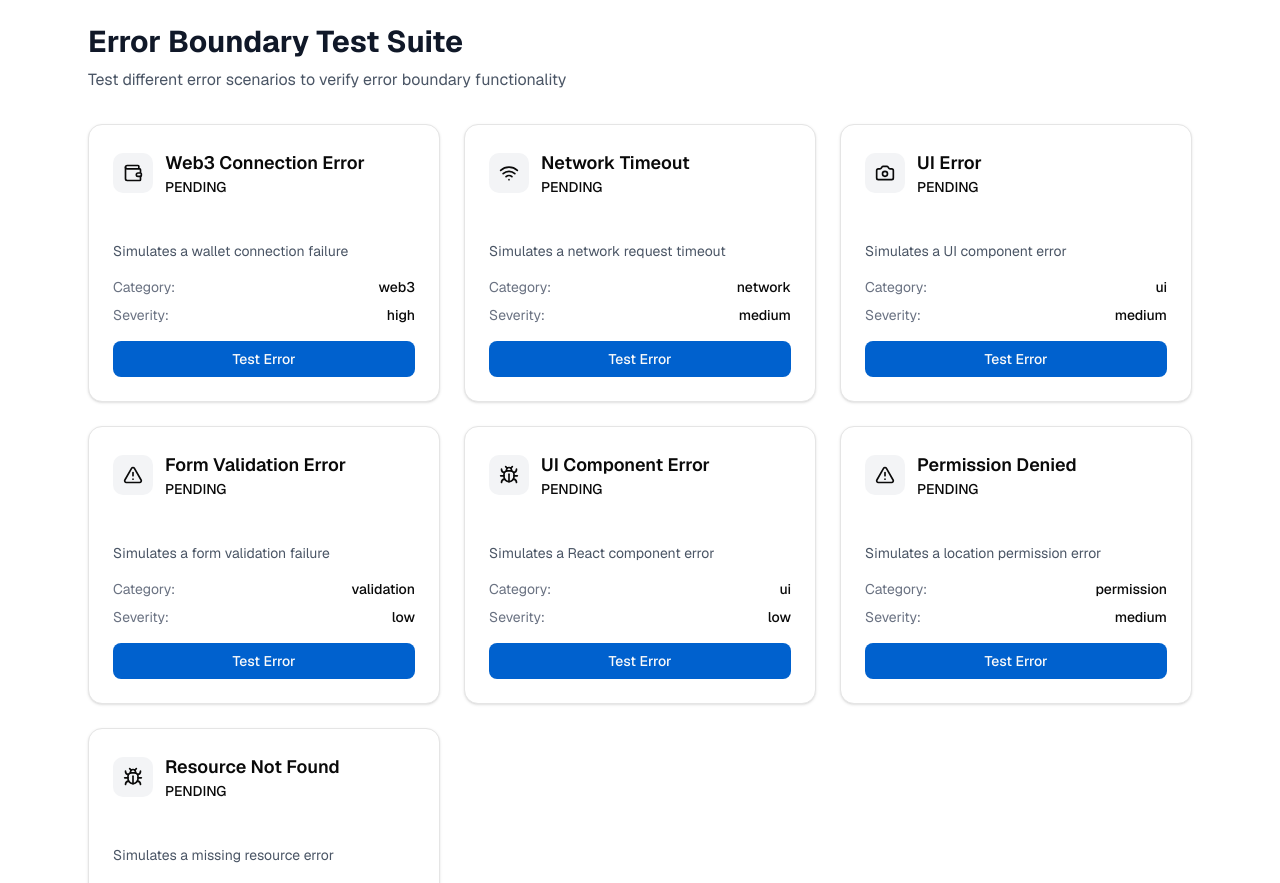
ErrorTestSuite › shows and clears the summary panel after a test run
Click the button "Test Error" below "high".
click(264, 359)  # box x1=113 y1=341 x2=415 y2=377
Wait 2000 ms
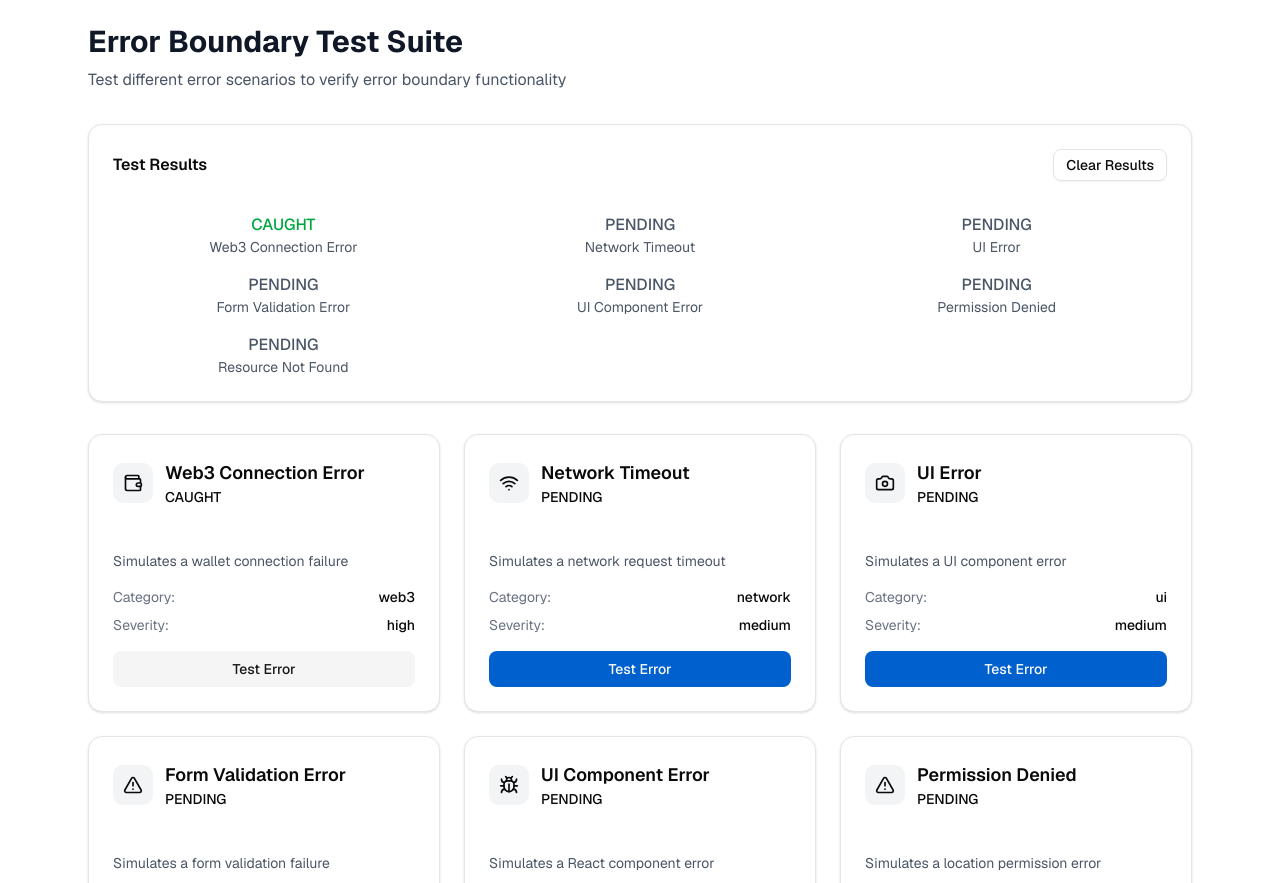
expect the text "CAUGHT" below "Test Results" is shown: met, box x1=251 y1=214 x2=315 y2=235
expect the text "Test Results Clear Results" is shown: met, box x1=113 y1=149 x2=1167 y2=181
Click the button "Clear Results".
click(1110, 165)  # box x1=1053 y1=149 x2=1167 y2=181
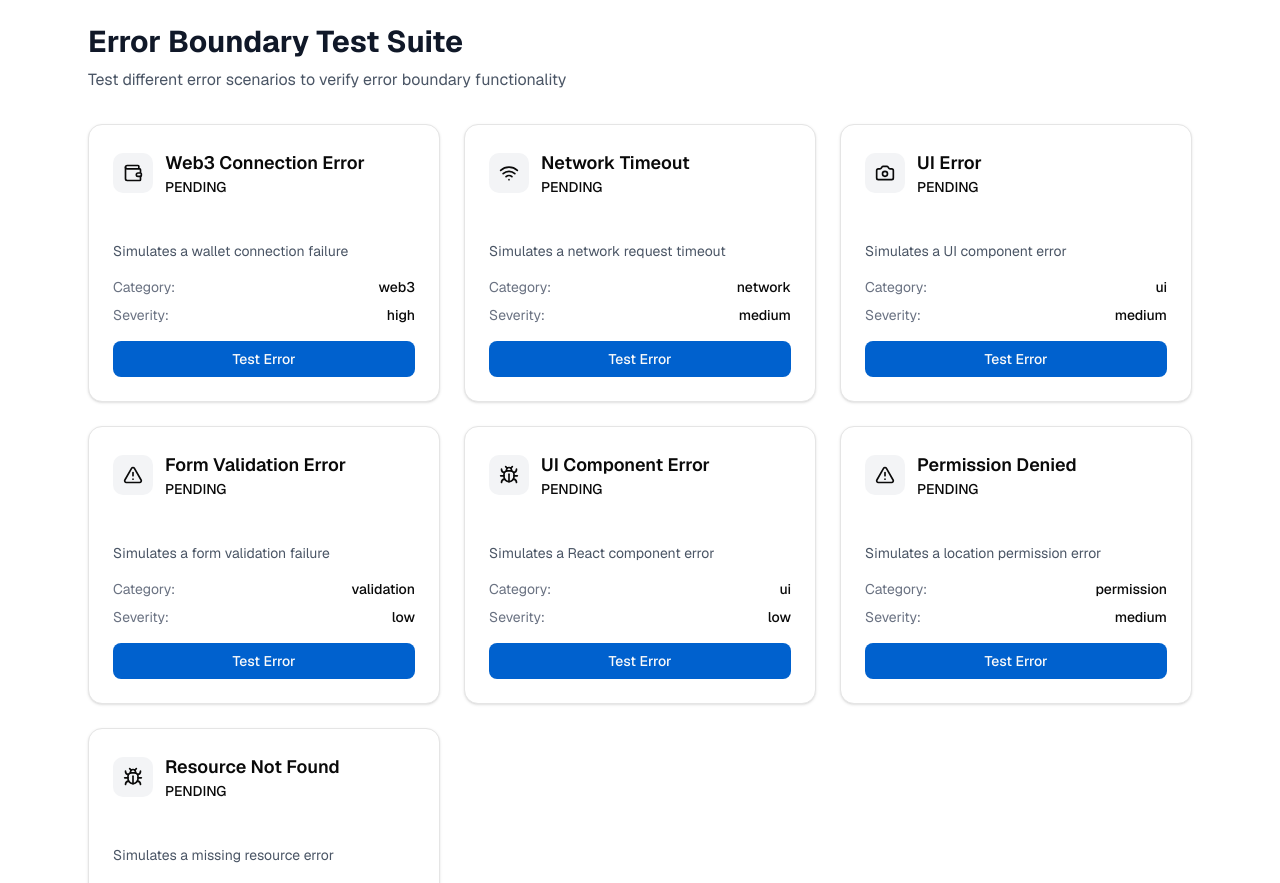
expect the text "Test Results" is gone: met
